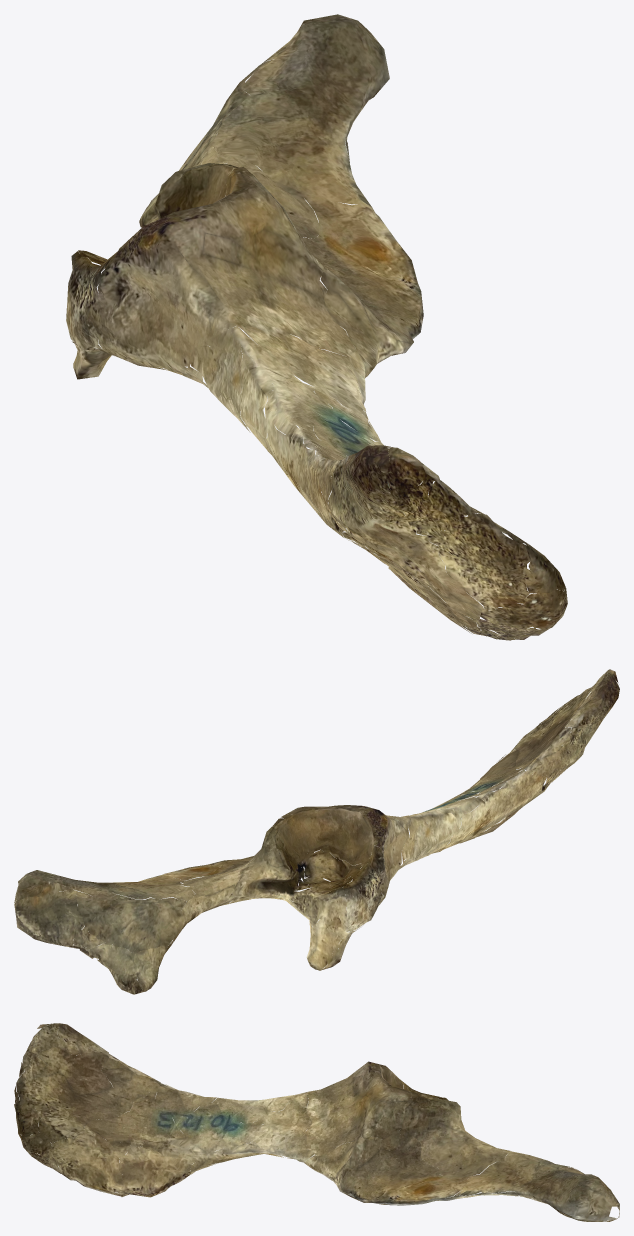
The model's file is bone_pelvis.glb.
The picture shows the model from 3 angles, top to bottom: view 1: azimuth 30°, elevation 25°; view 2: azimuth 150°, elevation 25°; view 3: azimuth 270°, elevation 25°; orthographic projection. The views are drawn at different scales.
Parts seen in each view (by area): view 1: Object_4; view 2: Object_4; view 3: Object_4.
Boxes of the visible parts, left/top/right/bottom form: Object_4: left=66, top=14, right=567, bottom=640; Object_4: left=14, top=669, right=619, bottom=994; Object_4: left=14, top=1023, right=619, bottom=1221.
Bounding box in the file's own units: 0.5711 × 0.2727 × 1.11.
1 material, 1 textured.
